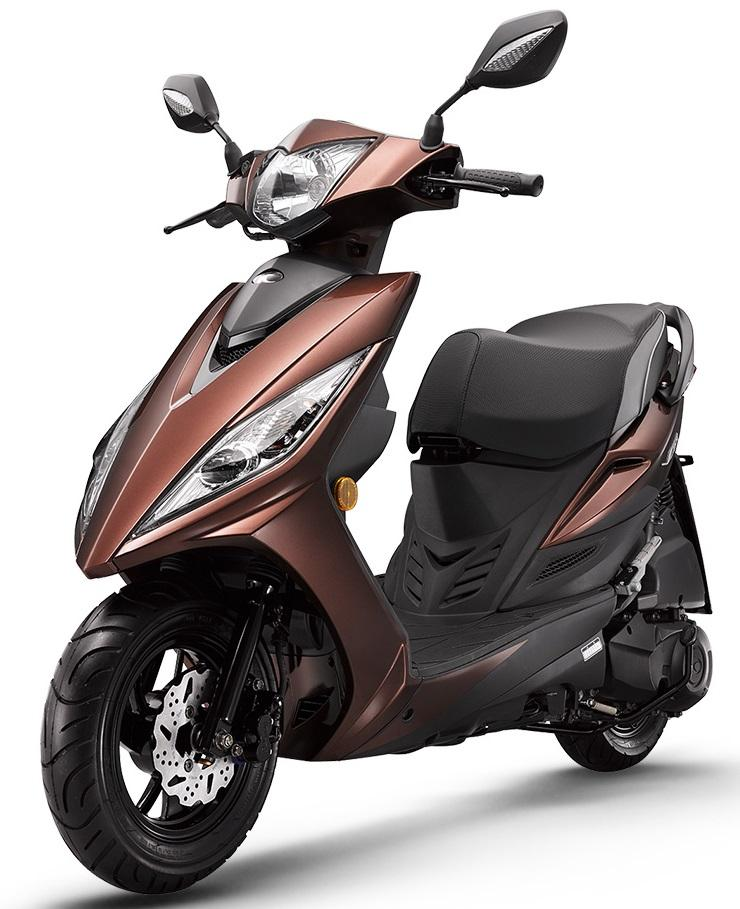motorcycle: (10, 8, 740, 905)
